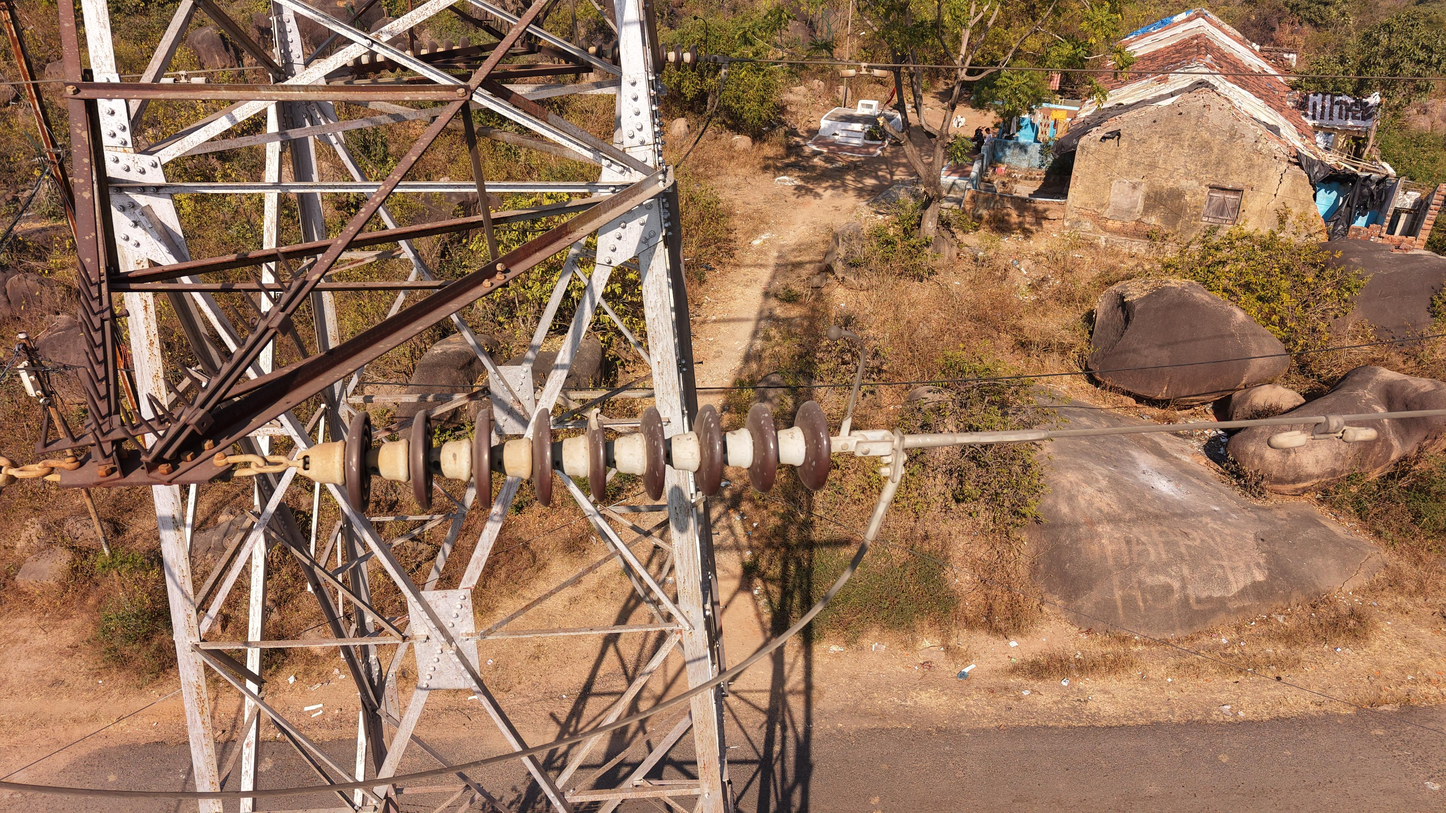broken_insulator: (571, 401, 630, 508)
